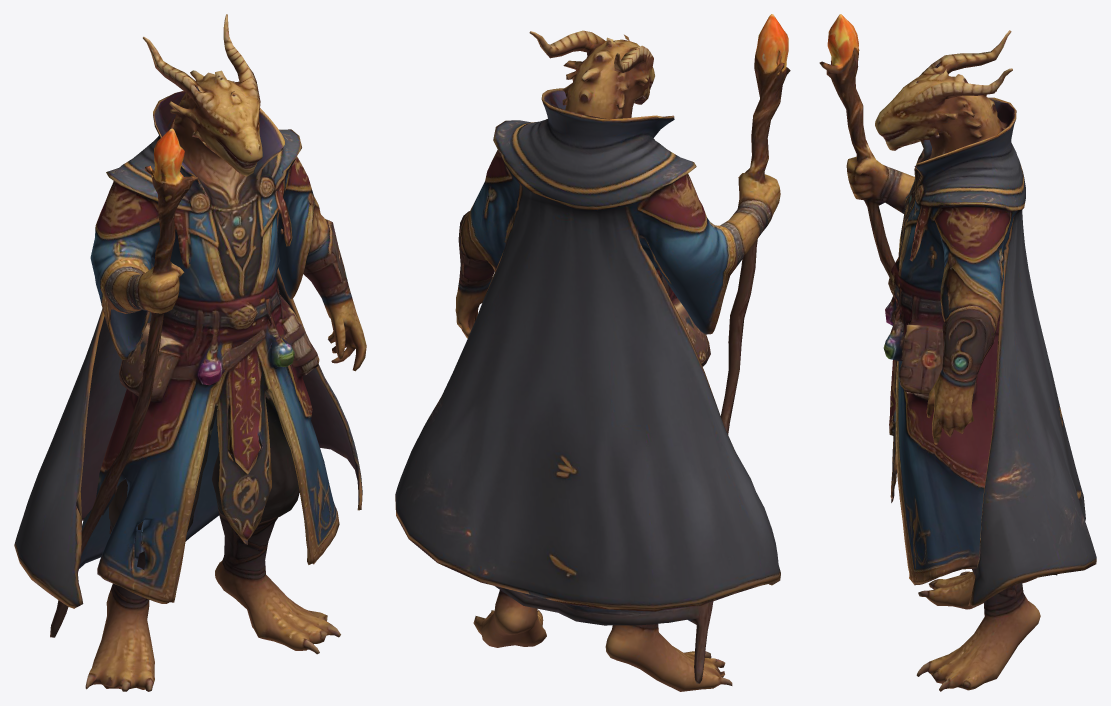
File: Feiticeiro.glb
3 views of the same model, side by side, from view 1: azimuth 30°, elevation 25°; view 2: azimuth 150°, elevation 25°; view 3: azimuth 270°, elevation 25° (orthographic). The views are drawn at different scales.
Visible parts, largest first — view 1: tripo_node_e5f489db-1e7a-4e16-ada4-19aa27fd0c90; view 2: tripo_node_e5f489db-1e7a-4e16-ada4-19aa27fd0c90; view 3: tripo_node_e5f489db-1e7a-4e16-ada4-19aa27fd0c90.
Boxes of the visible parts, x1,y1,x2,y2 form: tripo_node_e5f489db-1e7a-4e16-ada4-19aa27fd0c90: (14,14,366,691); tripo_node_e5f489db-1e7a-4e16-ada4-19aa27fd0c90: (395,14,790,691); tripo_node_e5f489db-1e7a-4e16-ada4-19aa27fd0c90: (819,14,1096,691).
Size of the model in its own units: 0.5777 by 0.9958 by 0.4226.
1 material, 1 textured.
